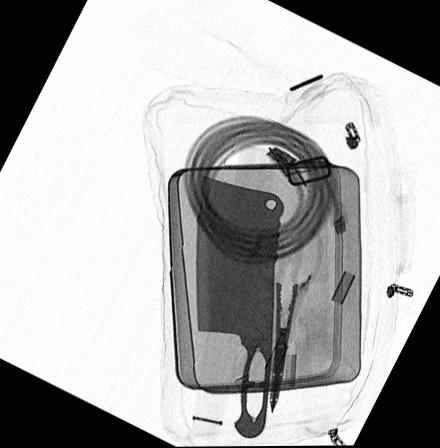Knife: (194, 176, 284, 440)
Scissors: (251, 222, 324, 413)
